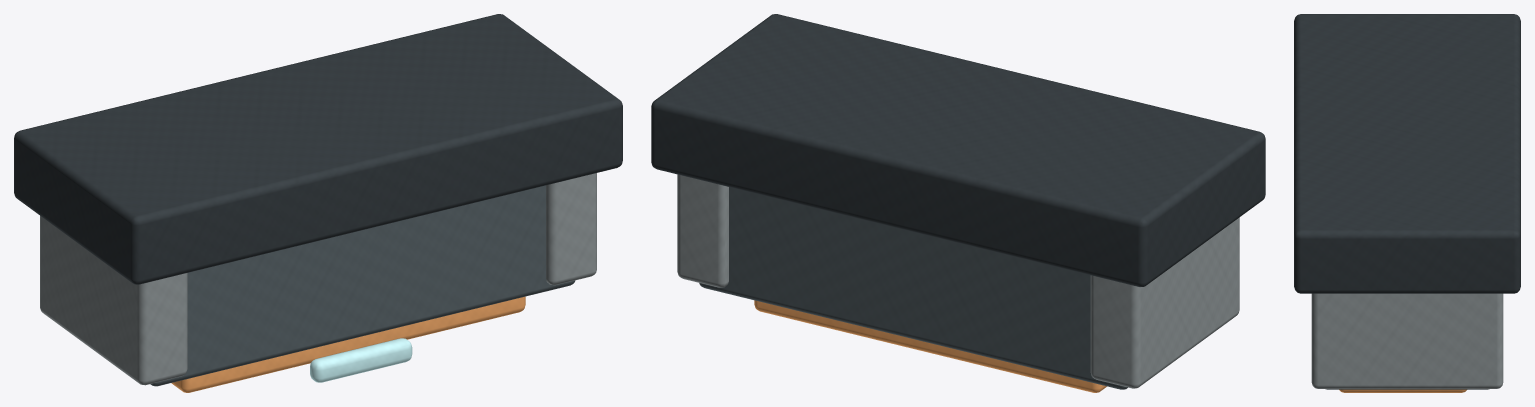
File: CeilingEmergencyLight.glb
3 renders of one model, left to right at view 1: azimuth 30°, elevation 25°; view 2: azimuth 150°, elevation 25°; view 3: azimuth 270°, elevation 25°, orthographic. The views are drawn at different scales.
Visible parts, largest first — view 1: CeilingEmergencyLight_Mesh; view 2: CeilingEmergencyLight_Mesh; view 3: CeilingEmergencyLight_Mesh.
Boxes of the visible parts, box(x1,y1,x2,y2) form: CeilingEmergencyLight_Mesh: box(14, 14, 622, 392); CeilingEmergencyLight_Mesh: box(651, 14, 1265, 392); CeilingEmergencyLight_Mesh: box(1294, 14, 1520, 392).
Size of the model in its own units: 0.6 by 0.2625 by 0.26.
Materials: 5 (5 with a texture image).
